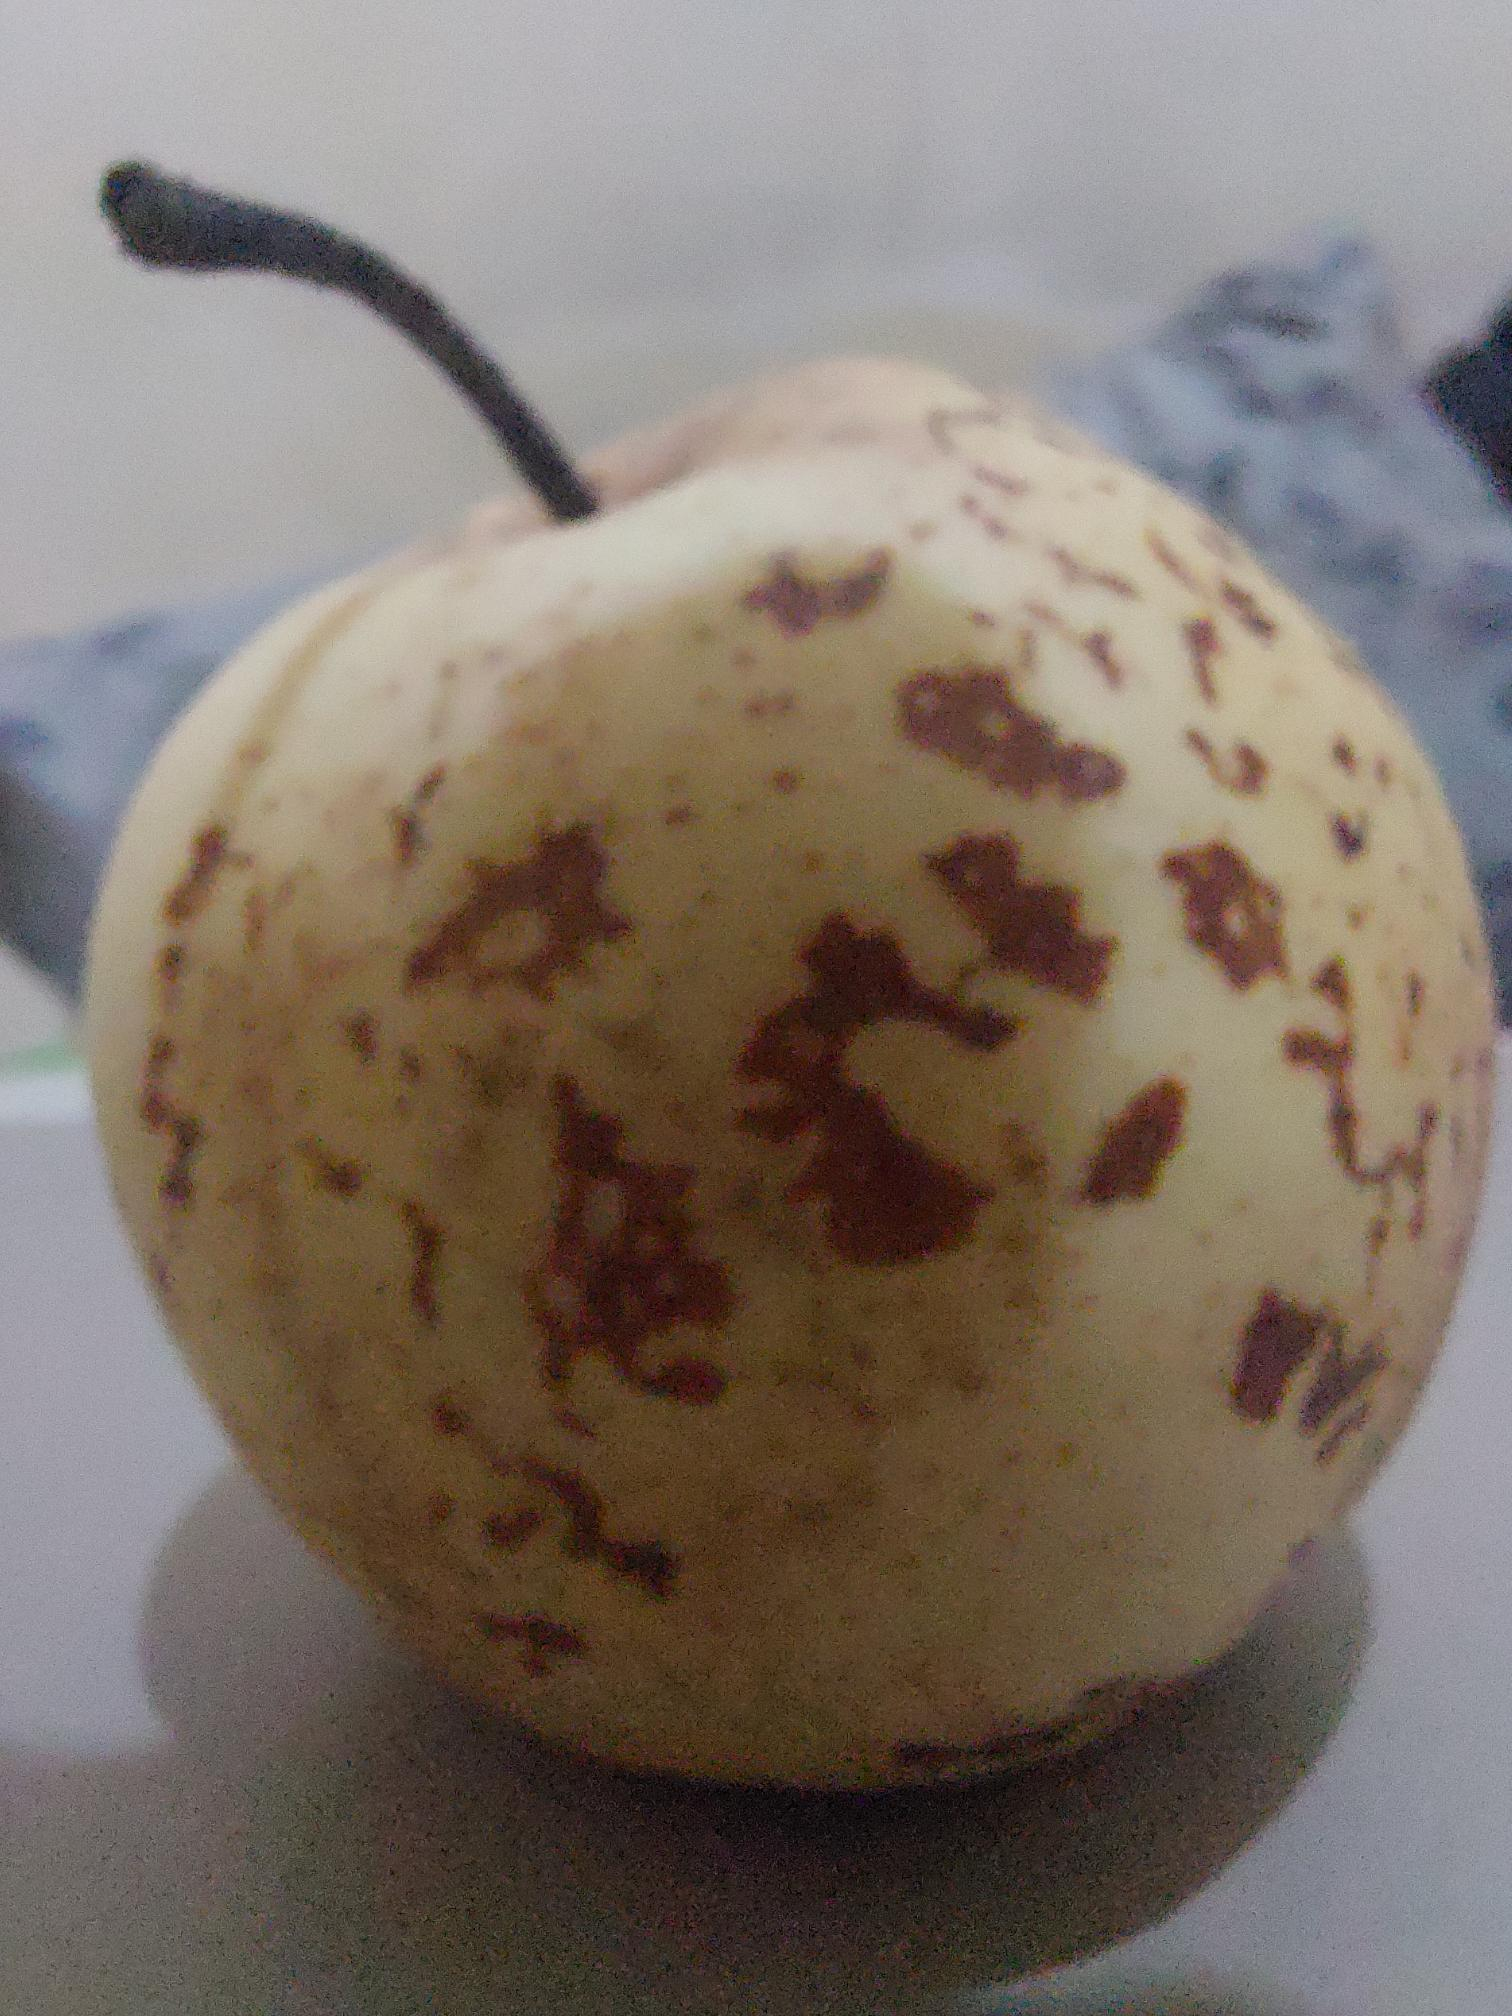Bad Pear: (51, 165, 1487, 1803)
